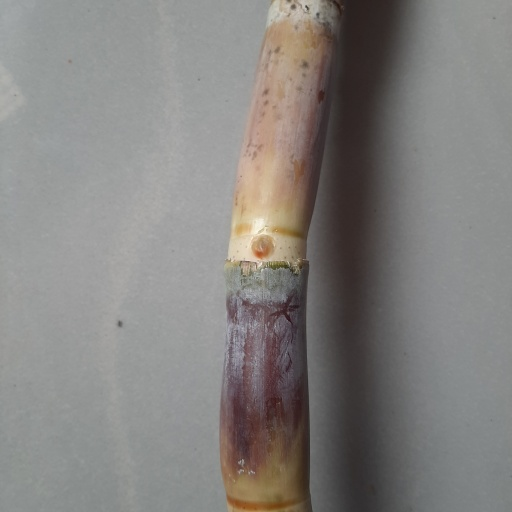Bud: (249, 234, 277, 259)
